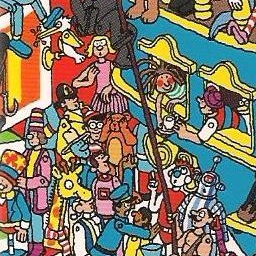waldo: (79, 104, 109, 152), (81, 107, 109, 144)
